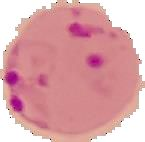parasitized: (9, 5, 134, 142), (5, 33, 76, 97), (4, 66, 65, 125), (66, 16, 127, 74)
